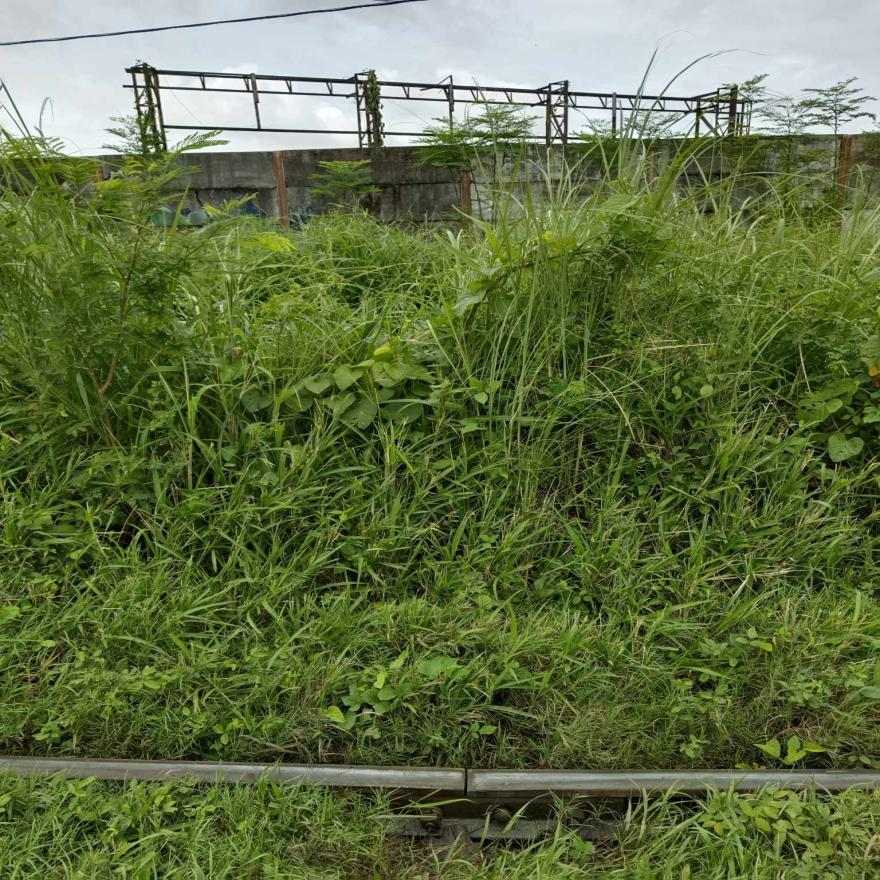railway-gap: (385, 722, 548, 833)
